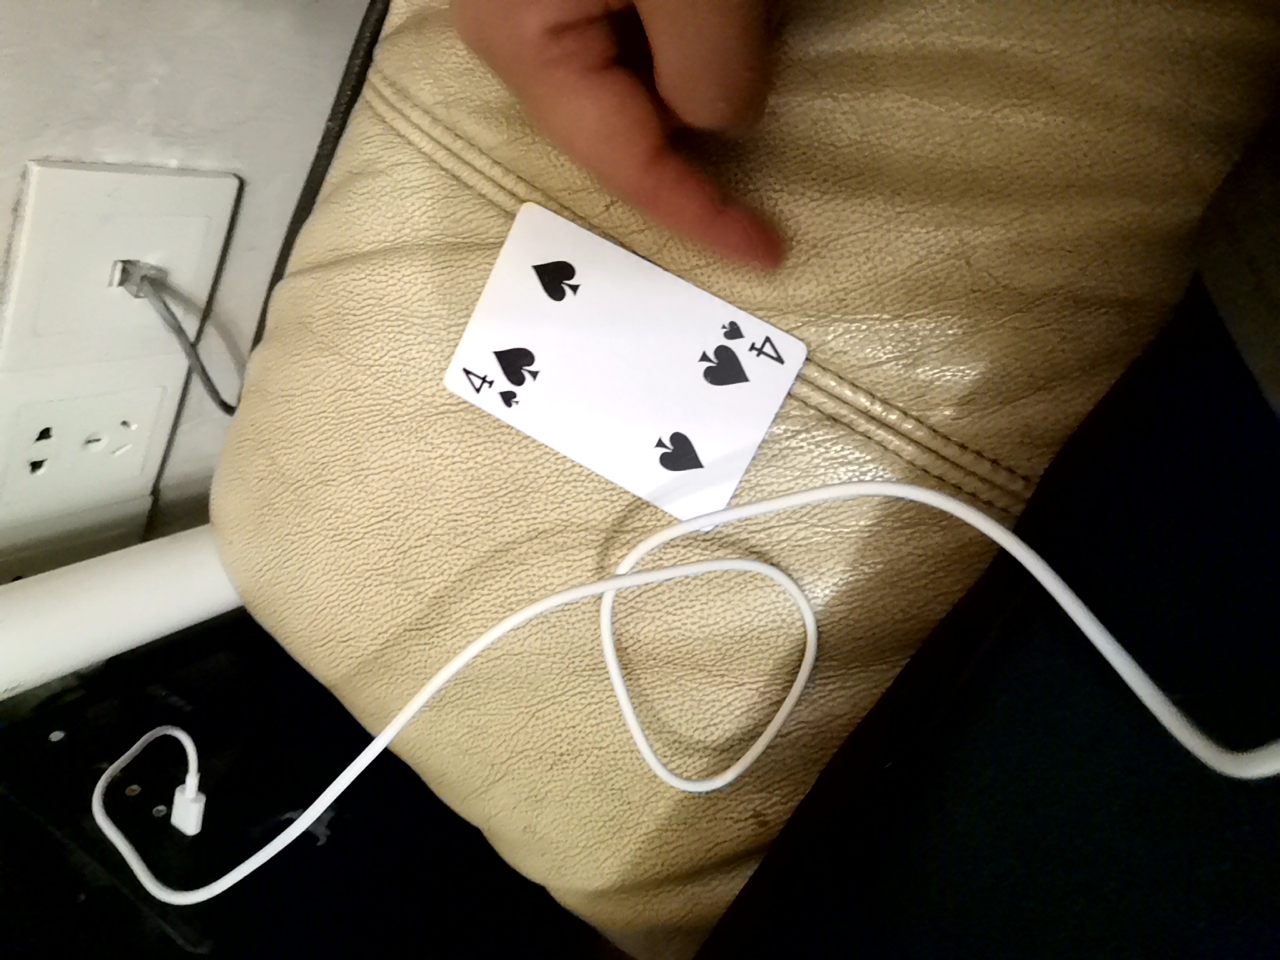ht 4: (437, 181, 795, 562)
